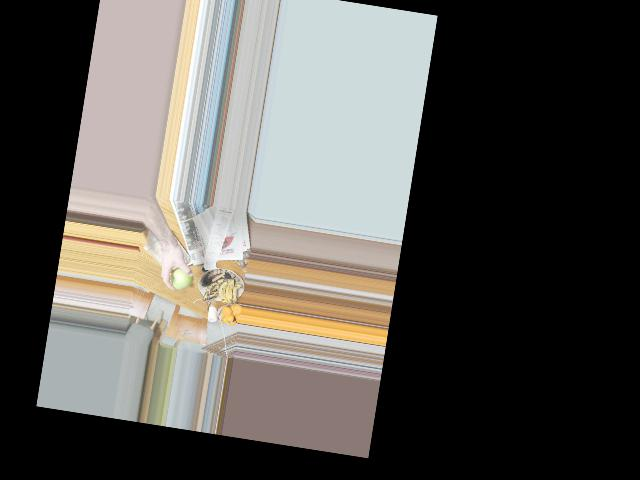apple: (169, 265, 193, 292)
